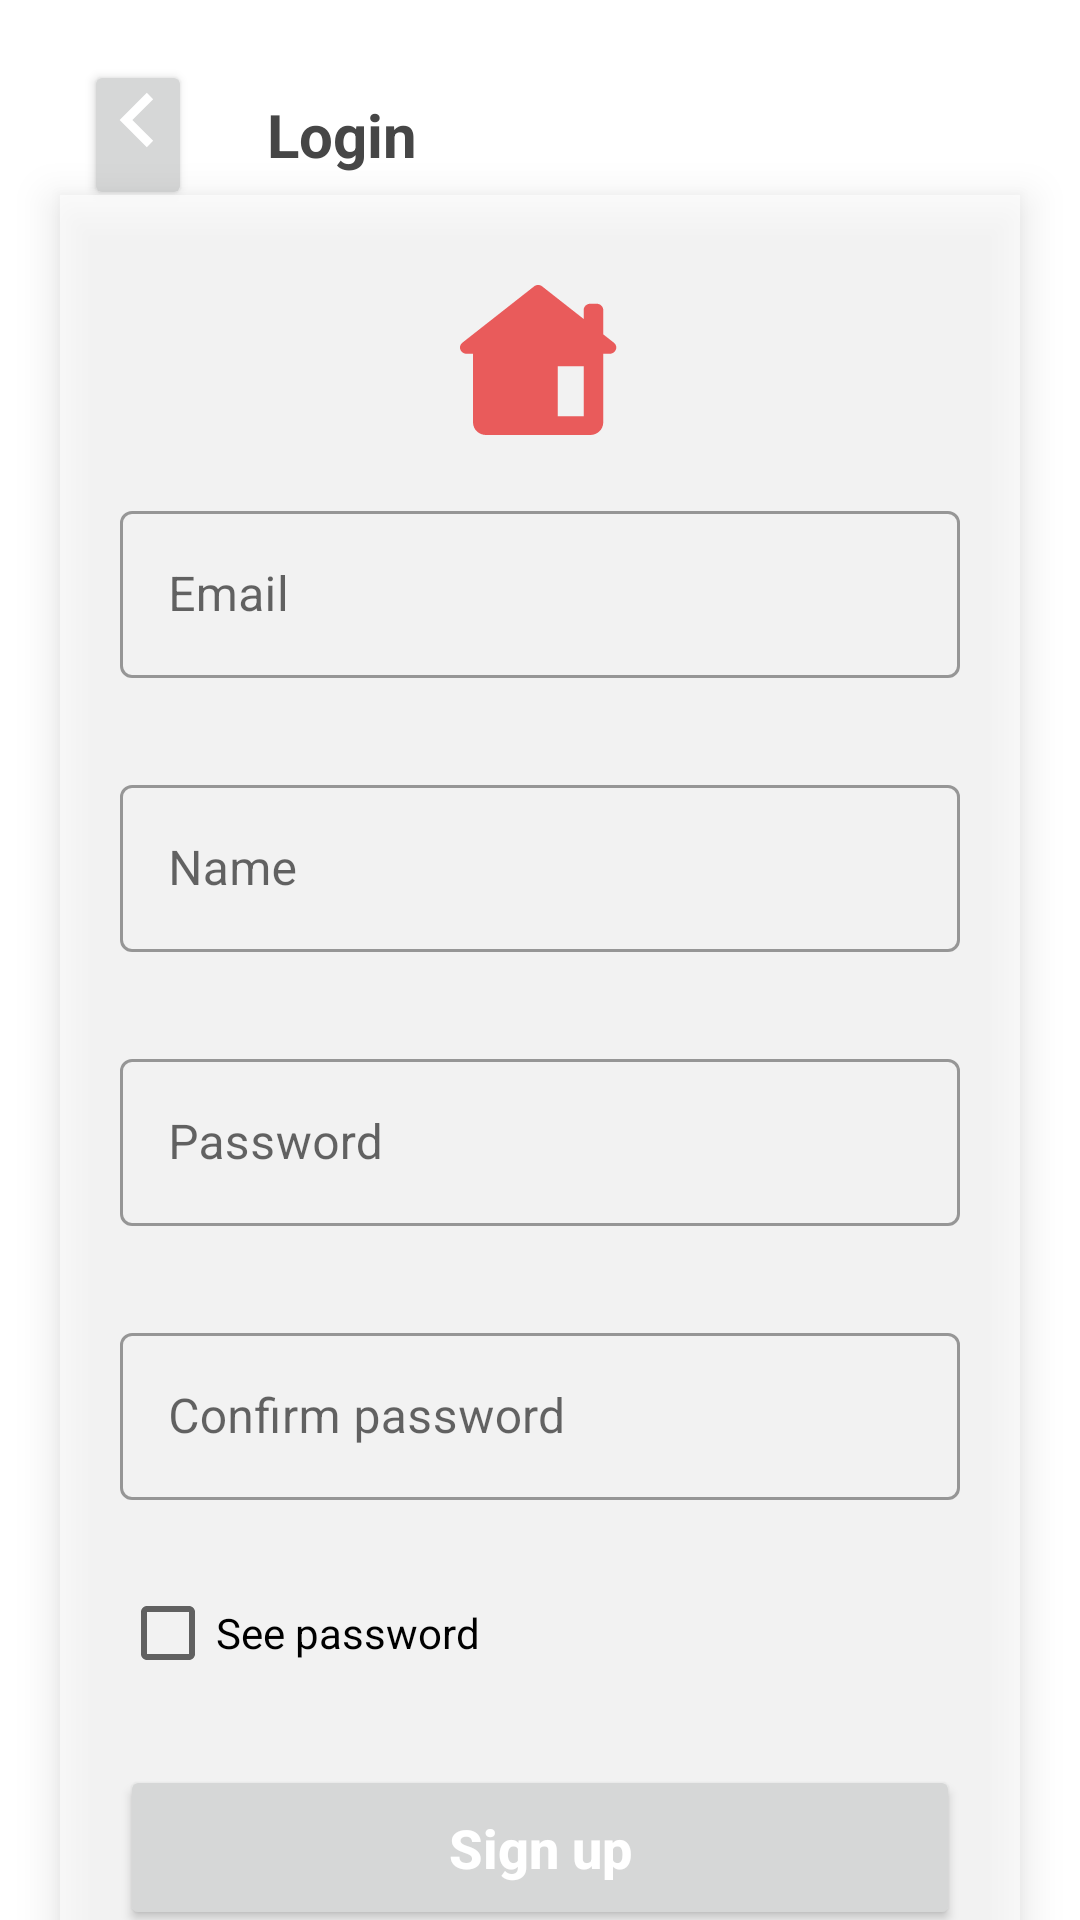

Icon click points for this 1080 × 1920 phone screenshot, format [x,y]:
home: [538,360]
